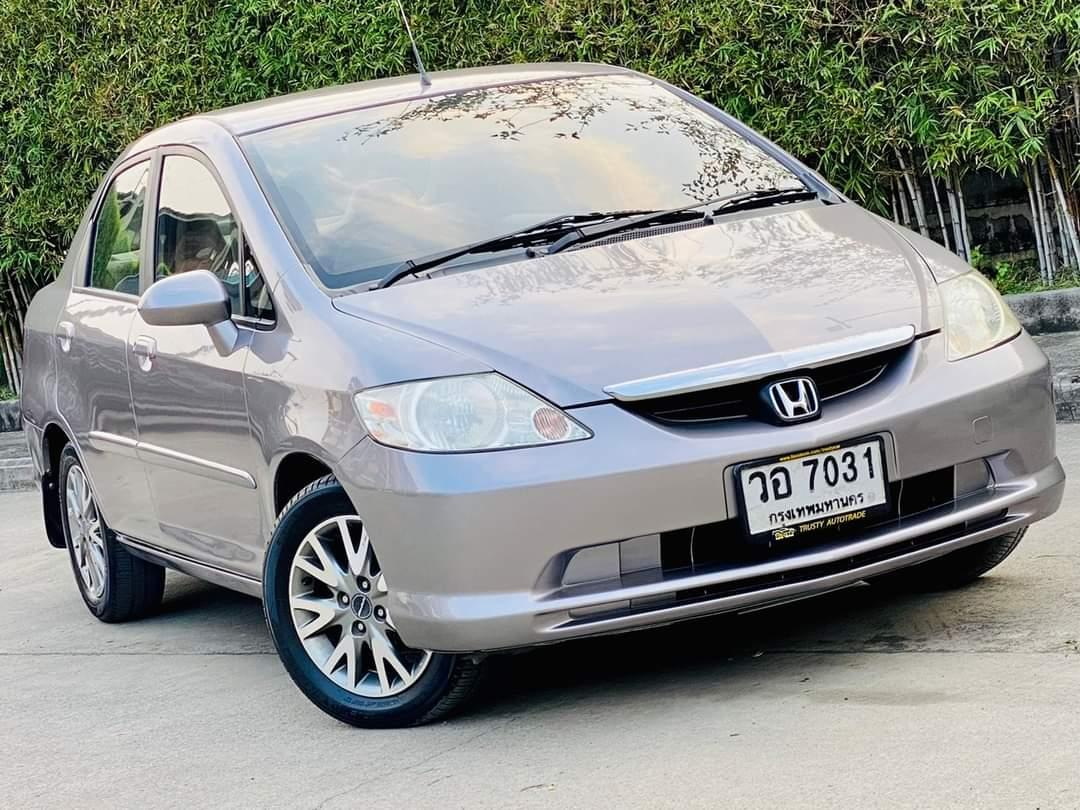license-plate: (729, 430, 893, 556)
